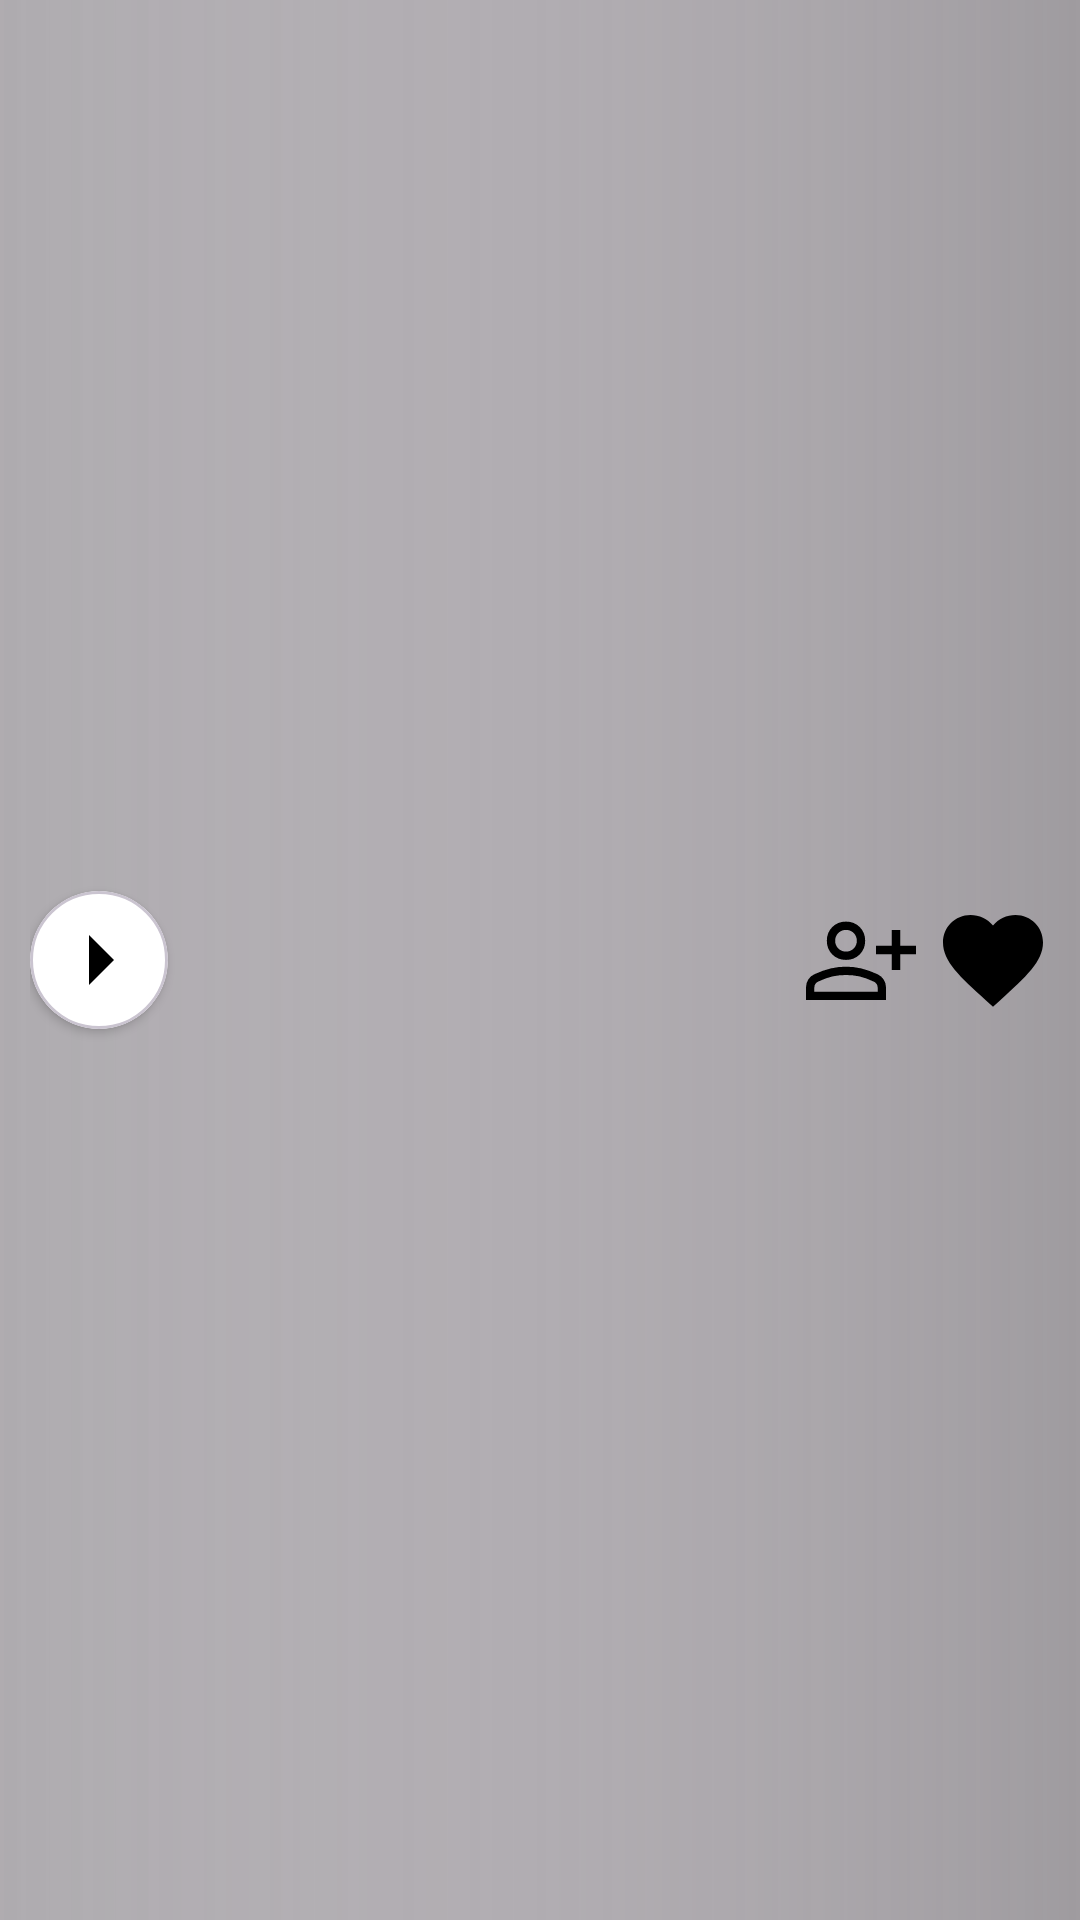

Named icons in this screenshot (1080w x 1920h) and their centers, (x=x, y=y):
follow: (x=861, y=960)
like: (x=993, y=961)
Play/Pause: (x=101, y=960)
